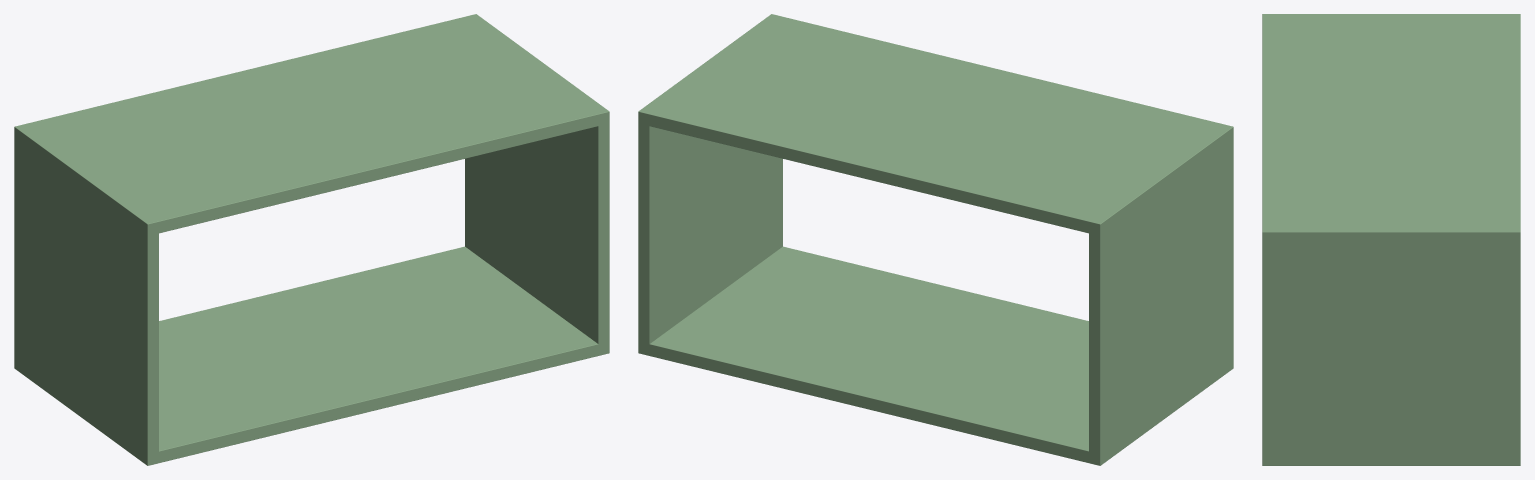
The model's file is MOD-2X1-A-O-SA.glb.
3 renders of one model, left to right at view 1: azimuth 30°, elevation 25°; view 2: azimuth 150°, elevation 25°; view 3: azimuth 270°, elevation 25°, orthographic. The views are drawn at different scales.
Size of the model in its own units: 720 by 360 by 360.
